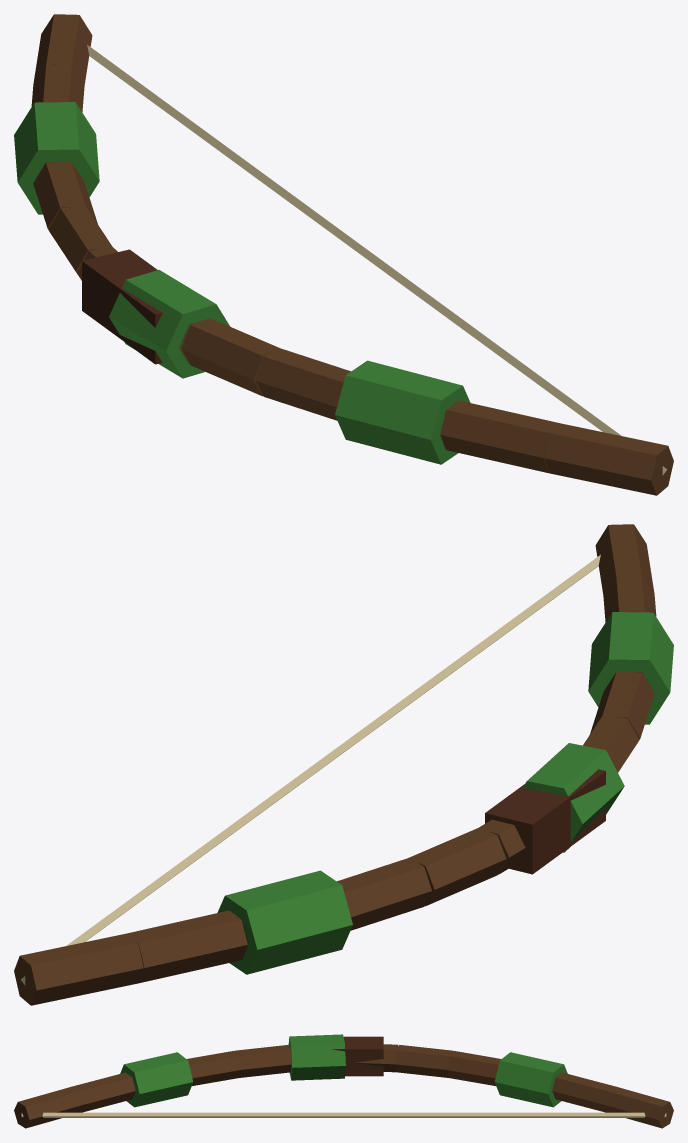
Rendered from 12_Bow.glb.
3 views of the same model, one above another, from view 1: azimuth 30°, elevation 25°; view 2: azimuth 150°, elevation 25°; view 3: azimuth 270°, elevation 25° (orthographic). The views are drawn at different scales.
Parts seen in each view (by area): view 1: 12_Bow; view 2: 12_Bow; view 3: 12_Bow.
Part boxes in pixels (x1,y1,x2,y2): 12_Bow: (14, 14, 673, 495); 12_Bow: (14, 524, 673, 1005); 12_Bow: (14, 1034, 673, 1128).
Size of the model in its own units: 0.3479 by 0.0776 by 1.33.
